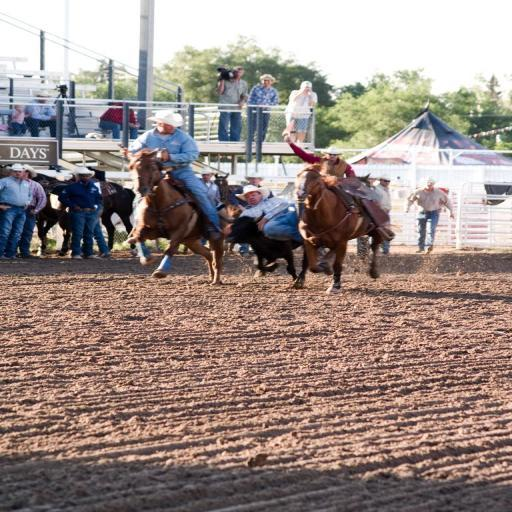horse: (122, 142, 227, 286), (290, 162, 392, 293)
